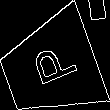P_W: (23, 42, 78, 94)
